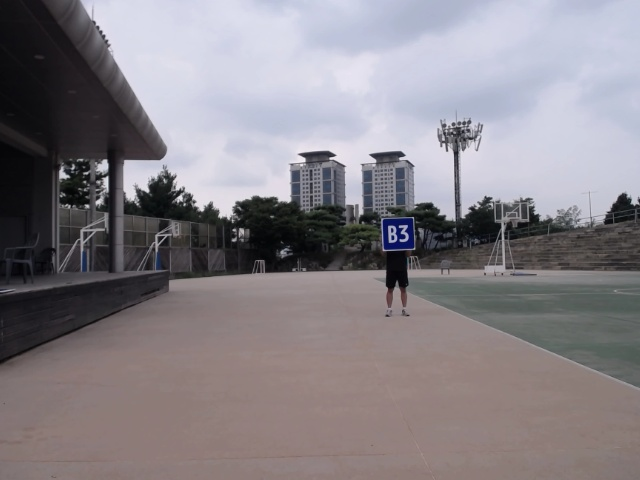delivery_b3: (381, 217, 417, 253)
